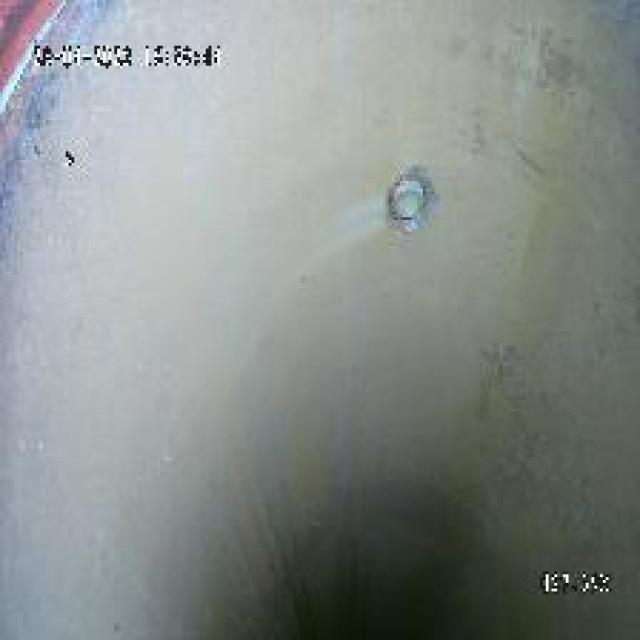ferrule: (371, 169, 443, 220)
